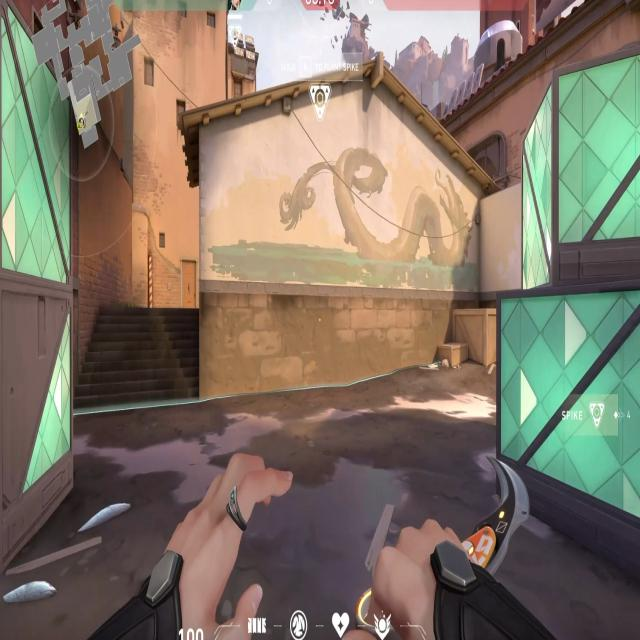B_Site_Box: (488, 64, 640, 592)
